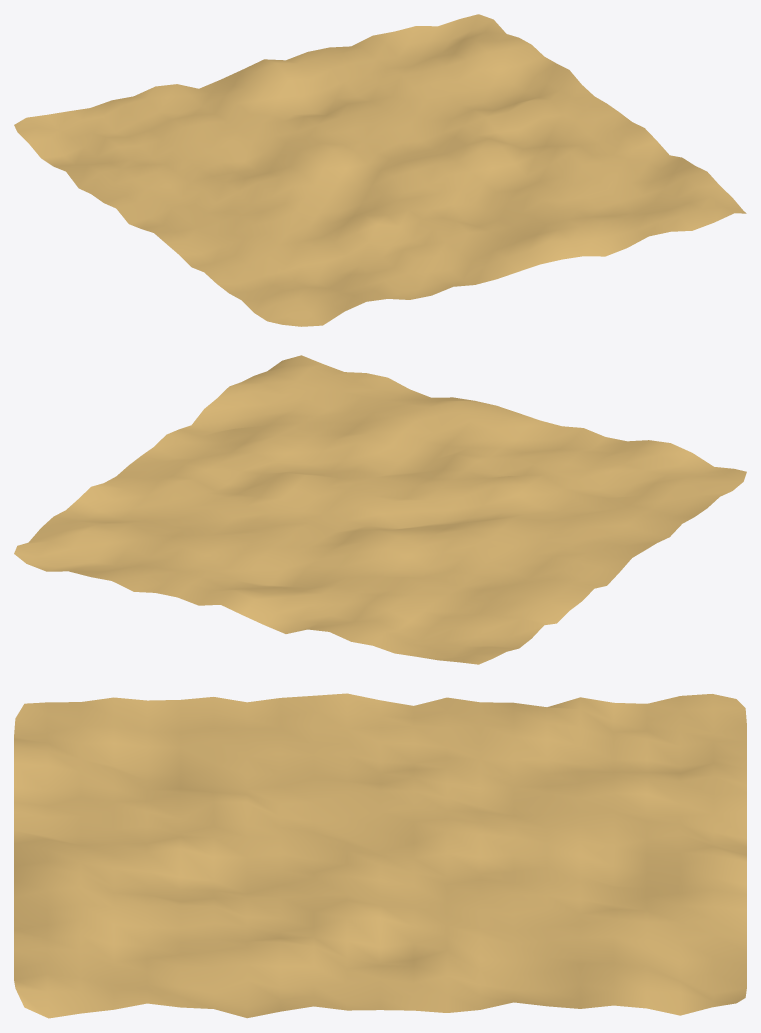
File: sand_4.fbx
3 renders of one model, top to bottom at view 1: azimuth 30°, elevation 25°; view 2: azimuth 150°, elevation 25°; view 3: azimuth 270°, elevation 25°, orthographic. The views are drawn at different scales.
Parts seen in each view (by area): view 1: Sol.003; view 2: Sol.003; view 3: Sol.003.
Boxes of the visible parts, left/top/right/bottom form: Sol.003: left=14, top=14, right=746, bottom=326; Sol.003: left=14, top=355, right=746, bottom=664; Sol.003: left=14, top=693, right=746, bottom=1018.
Bounding box in the file's own units: 2040 × 93.19 × 2040.
